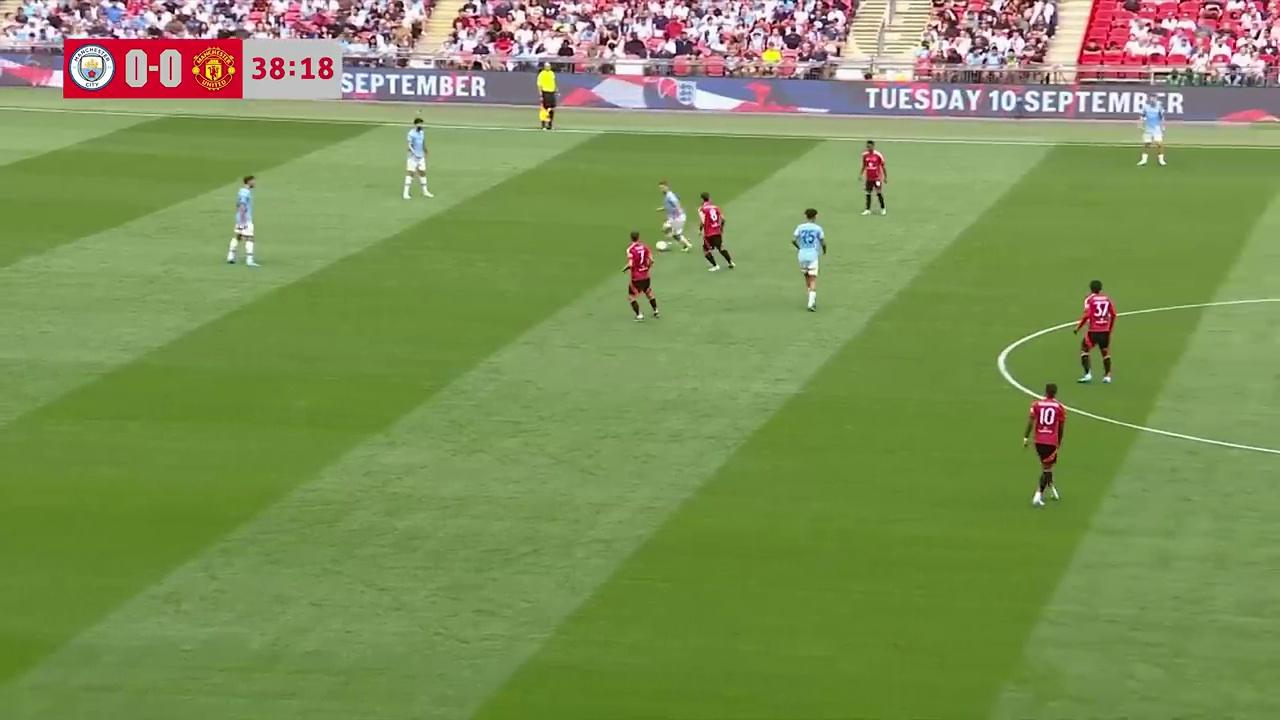ball: (656, 237, 668, 250)
player: (1023, 383, 1066, 508), (1072, 278, 1117, 384), (792, 208, 826, 311), (623, 231, 659, 320), (226, 175, 259, 267), (697, 193, 734, 271), (1137, 94, 1173, 166), (403, 115, 432, 200), (657, 183, 692, 253), (858, 139, 888, 215)
referee: (536, 64, 558, 130)
